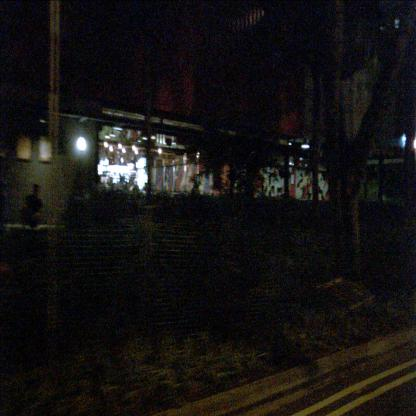human-pedestrian-adult: (21, 184, 43, 277)
